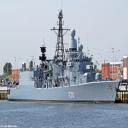Fragata: (6, 8, 122, 104)
